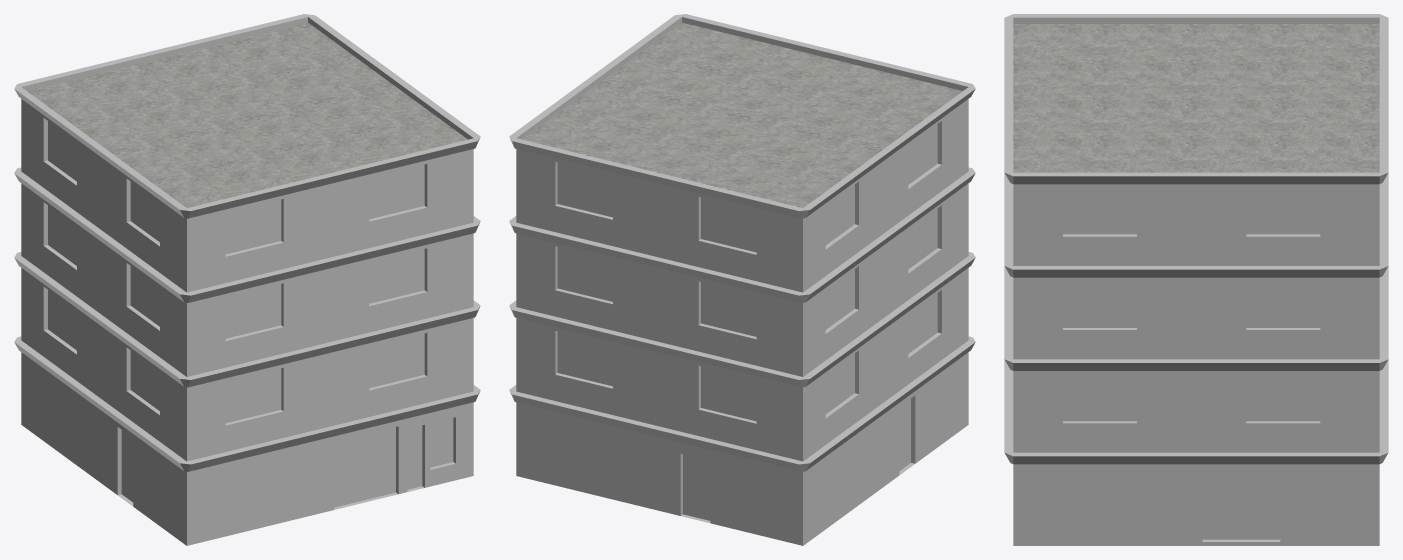
The model's file is RV_Building_Type_B_05.fbx.
3 views of the same model, side by side, from view 1: azimuth 30°, elevation 25°; view 2: azimuth 150°, elevation 25°; view 3: azimuth 270°, elevation 25° (orthographic). The views are drawn at different scales.
Visible parts, largest first — view 1: RV_Building_Type_B_05; view 2: RV_Building_Type_B_05; view 3: RV_Building_Type_B_05.
Part boxes in pixels (left/top/right/bottom): RV_Building_Type_B_05: left=14, top=14, right=480, bottom=545; RV_Building_Type_B_05: left=509, top=14, right=975, bottom=545; RV_Building_Type_B_05: left=1004, top=14, right=1388, bottom=545.
Bounding box in the file's own units: 1074 × 1152 × 1074.
